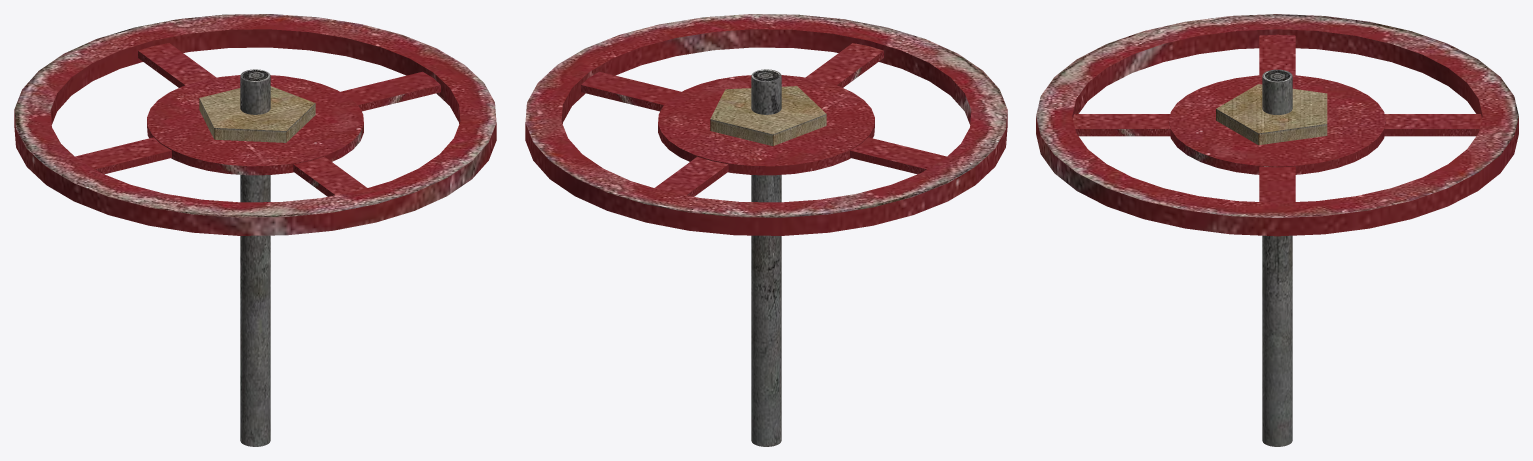
Rendered from valvewheel001.glb.
The picture shows the model from 3 angles, left to right: view 1: azimuth 30°, elevation 25°; view 2: azimuth 150°, elevation 25°; view 3: azimuth 270°, elevation 25°; orthographic projection.
Visible parts, largest first — view 1: 0_valvewheel001_skin1; view 2: 0_valvewheel001_skin1; view 3: 0_valvewheel001_skin1.
Part boxes in pixels (x1=…): 0_valvewheel001_skin1: x1=14, y1=14, x2=496, y2=446; 0_valvewheel001_skin1: x1=525, y1=14, x2=1007, y2=446; 0_valvewheel001_skin1: x1=1036, y1=14, x2=1518, y2=446.
Size of the model in its own units: 0.6096 by 0.508 by 0.6096.
Materials: 1 (1 with a texture image).
